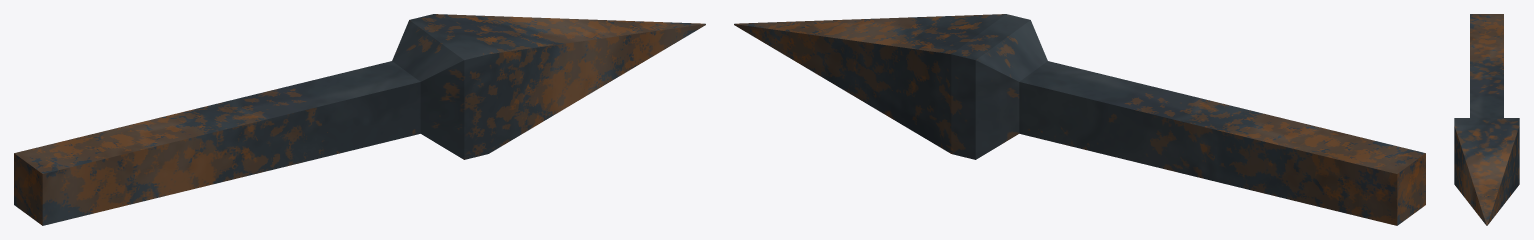
File: Spike_Prototype.fbx
3 renders of one model, left to right at view 1: azimuth 30°, elevation 25°; view 2: azimuth 150°, elevation 25°; view 3: azimuth 270°, elevation 25°, orthographic. The views are drawn at different scales.
Visible parts, largest first — view 1: Spike_Prototype; view 2: Spike_Prototype; view 3: Spike_Prototype.
Part boxes in pixels (x1,y1,x2,y2): Spike_Prototype: (14,14,705,225); Spike_Prototype: (734,14,1425,225); Spike_Prototype: (1454,14,1519,225).
Bounding box in the file's own units: 156 × 22.03 × 22.03.
1 material, 1 textured.
